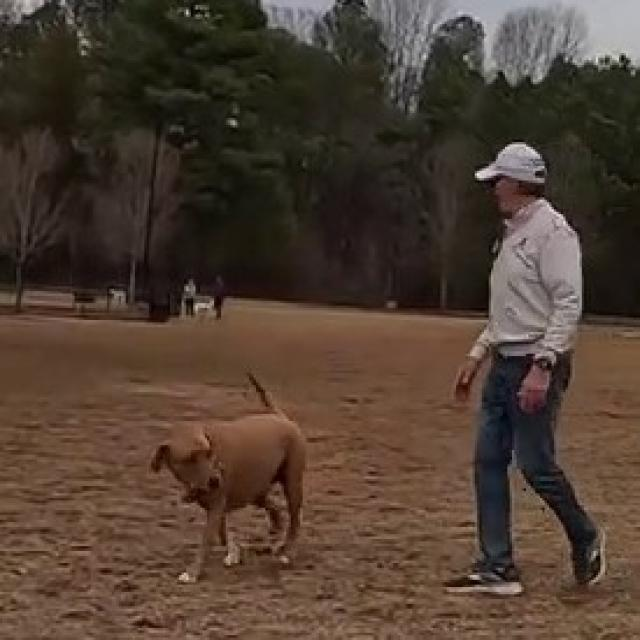Unleashed_Dog: (148, 349, 536, 582)
